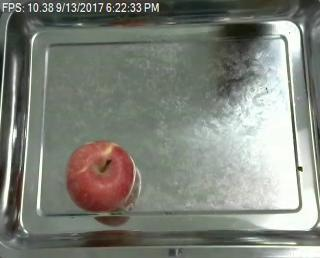apple: (66, 140, 136, 212)
